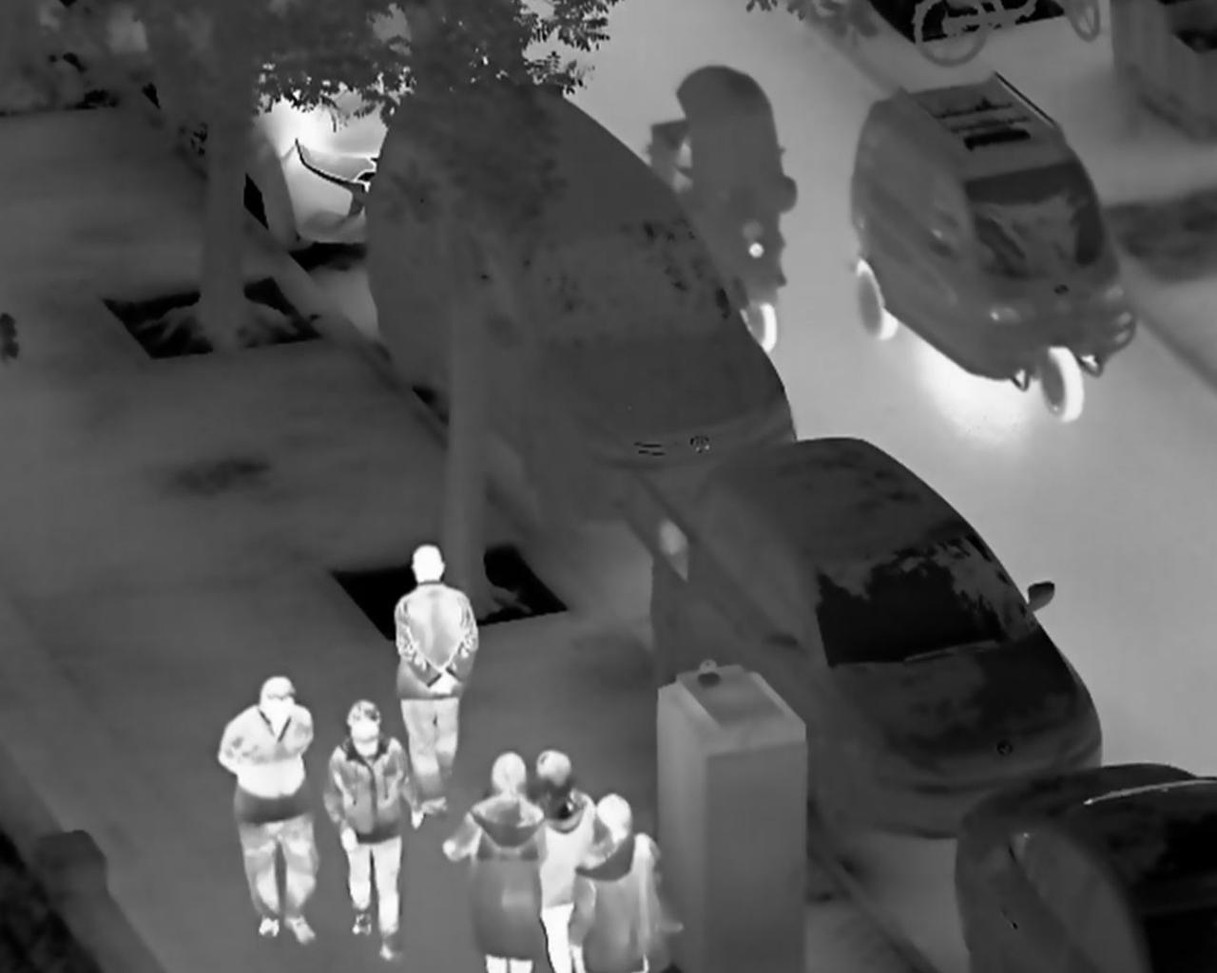person: (216, 673, 323, 943), (322, 698, 426, 964), (441, 749, 551, 973), (394, 543, 481, 818), (565, 790, 673, 973), (527, 747, 593, 973)
